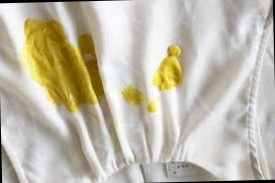mustard: (38, 21, 107, 112), (25, 16, 68, 82), (155, 42, 184, 92), (124, 88, 144, 110), (143, 100, 157, 115)
